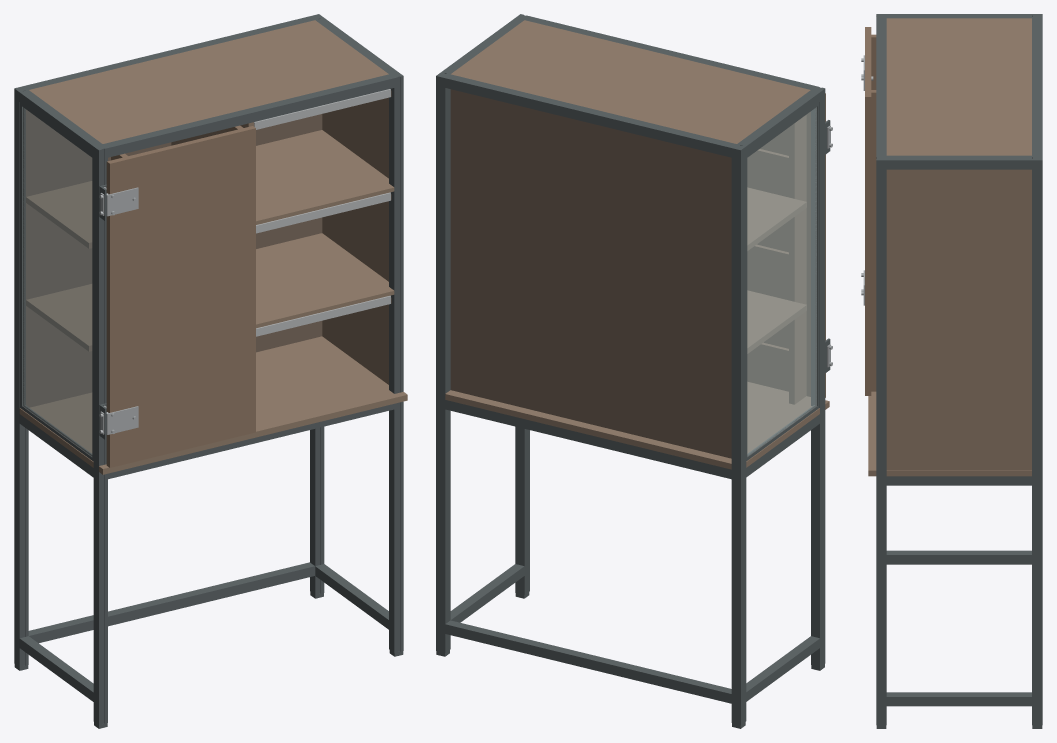
Rendered from cabinet-stowed.glb.
3 views of the same model, side by side, from view 1: azimuth 30°, elevation 25°; view 2: azimuth 150°, elevation 25°; view 3: azimuth 270°, elevation 25° (orthographic).
Visible parts, largest first — view 1: Door-face-18, Left-glass-6, Top-18, Back-12, Bottom-18, Right-panel, Right-floor-1, Right-floor-2, Post-966-23, Post-4-23, Post-4-470, Beam-top-front (+19 smaller); view 2: Back-12, Left-glass-6, Top-18, Post-4-470, Post-966-470, Post-4-23, Door-face-18, Bottom-18, Door-inner-hinge-18, Beam-top-rear, Beam-lower-rear, Beam-body-rear (+11 smaller); view 3: Right-panel, Top-18, Post-966-23, Post-966-470, Door-face-18, Beam-lower-side-4, Beam-lower-side-966, Beam-top-side-966, Door-inner-meeting-18, Bottom-18, Beam-top-rear, Beam-top-front (+3 smaller).
Part boxes in pixels (left/top/right/bottom): Door-face-18: left=106, top=126, right=255, bottom=467; Left-glass-6: left=22, top=107, right=92, bottom=455; Top-18: left=29, top=20, right=388, bottom=143; Back-12: left=25, top=109, right=322, bottom=407; Bottom-18: left=19, top=336, right=407, bottom=474; Right-panel: left=322, top=97, right=388, bottom=384; Right-floor-1: left=256, top=233, right=394, bottom=328; Right-floor-2: left=256, top=130, right=394, bottom=224; Post-966-23: left=389, top=72, right=403, bottom=652; Post-4-23: left=93, top=144, right=107, bottom=725; Post-4-470: left=14, top=86, right=28, bottom=667; Beam-top-front: left=103, top=74, right=394, bottom=157; Back-12: left=450, top=89, right=731, bottom=458; Left-glass-6: left=747, top=107, right=816, bottom=456; Top-18: left=451, top=20, right=810, bottom=143; Post-4-470: left=731, top=144, right=746, bottom=725; Post-966-470: left=436, top=72, right=450, bottom=652; Post-4-23: left=811, top=86, right=825, bottom=666; Door-face-18: left=747, top=93, right=825, bottom=397; Bottom-18: left=445, top=382, right=829, bottom=469; Door-inner-hinge-18: left=789, top=115, right=806, bottom=404; Beam-top-rear: left=445, top=74, right=736, bottom=157; Beam-lower-rear: left=445, top=620, right=731, bottom=703; Beam-body-rear: left=445, top=400, right=731, bottom=479; Right-panel: left=886, top=169, right=1031, bottom=470; Top-18: left=886, top=18, right=1031, bottom=155; Post-966-23: left=876, top=155, right=886, bottom=725; Post-966-470: left=1032, top=155, right=1042, bottom=725; Door-face-18: left=865, top=27, right=871, bottom=395; Beam-lower-side-4: left=886, top=550, right=1031, bottom=564; Beam-lower-side-966: left=886, top=692, right=1031, bottom=706; Beam-top-side-966: left=886, top=155, right=1031, bottom=169; Door-inner-meeting-18: left=871, top=90, right=876, bottom=391; Bottom-18: left=868, top=391, right=1031, bottom=476; Beam-top-rear: left=1032, top=18, right=1042, bottom=155; Beam-top-front: left=876, top=18, right=886, bottom=155.
Size of the model in its own units: 1 by 1.8 by 0.5195.
